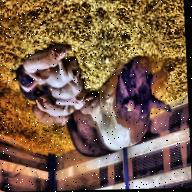boar: (10, 38, 177, 159)
